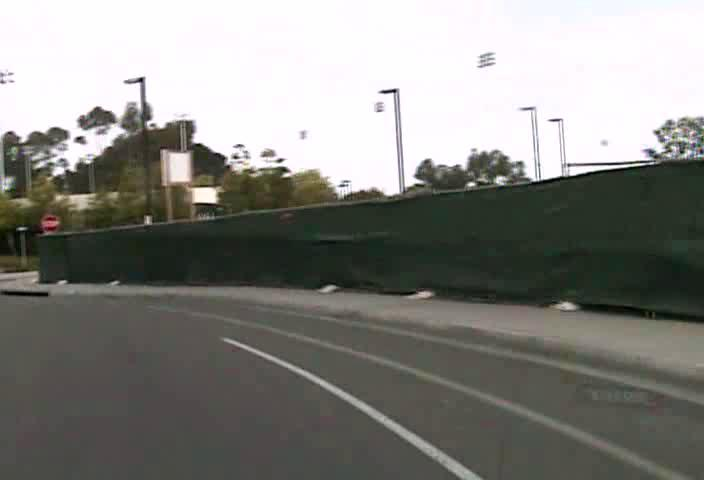stop: (39, 212, 60, 234)
